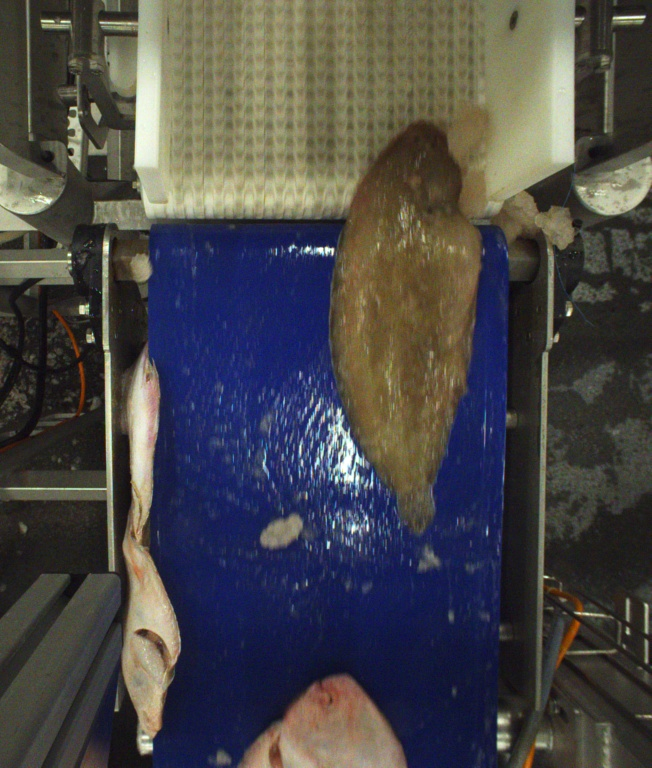SOL: (229, 676, 407, 768)
